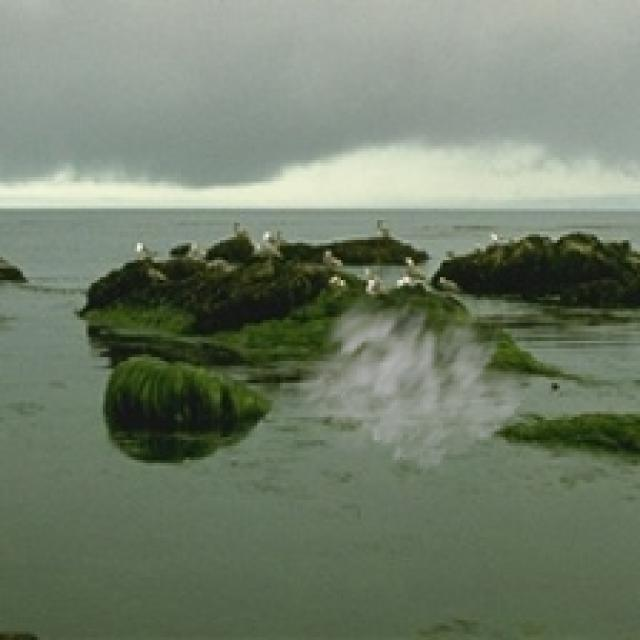smoke: (286, 266, 537, 477)
